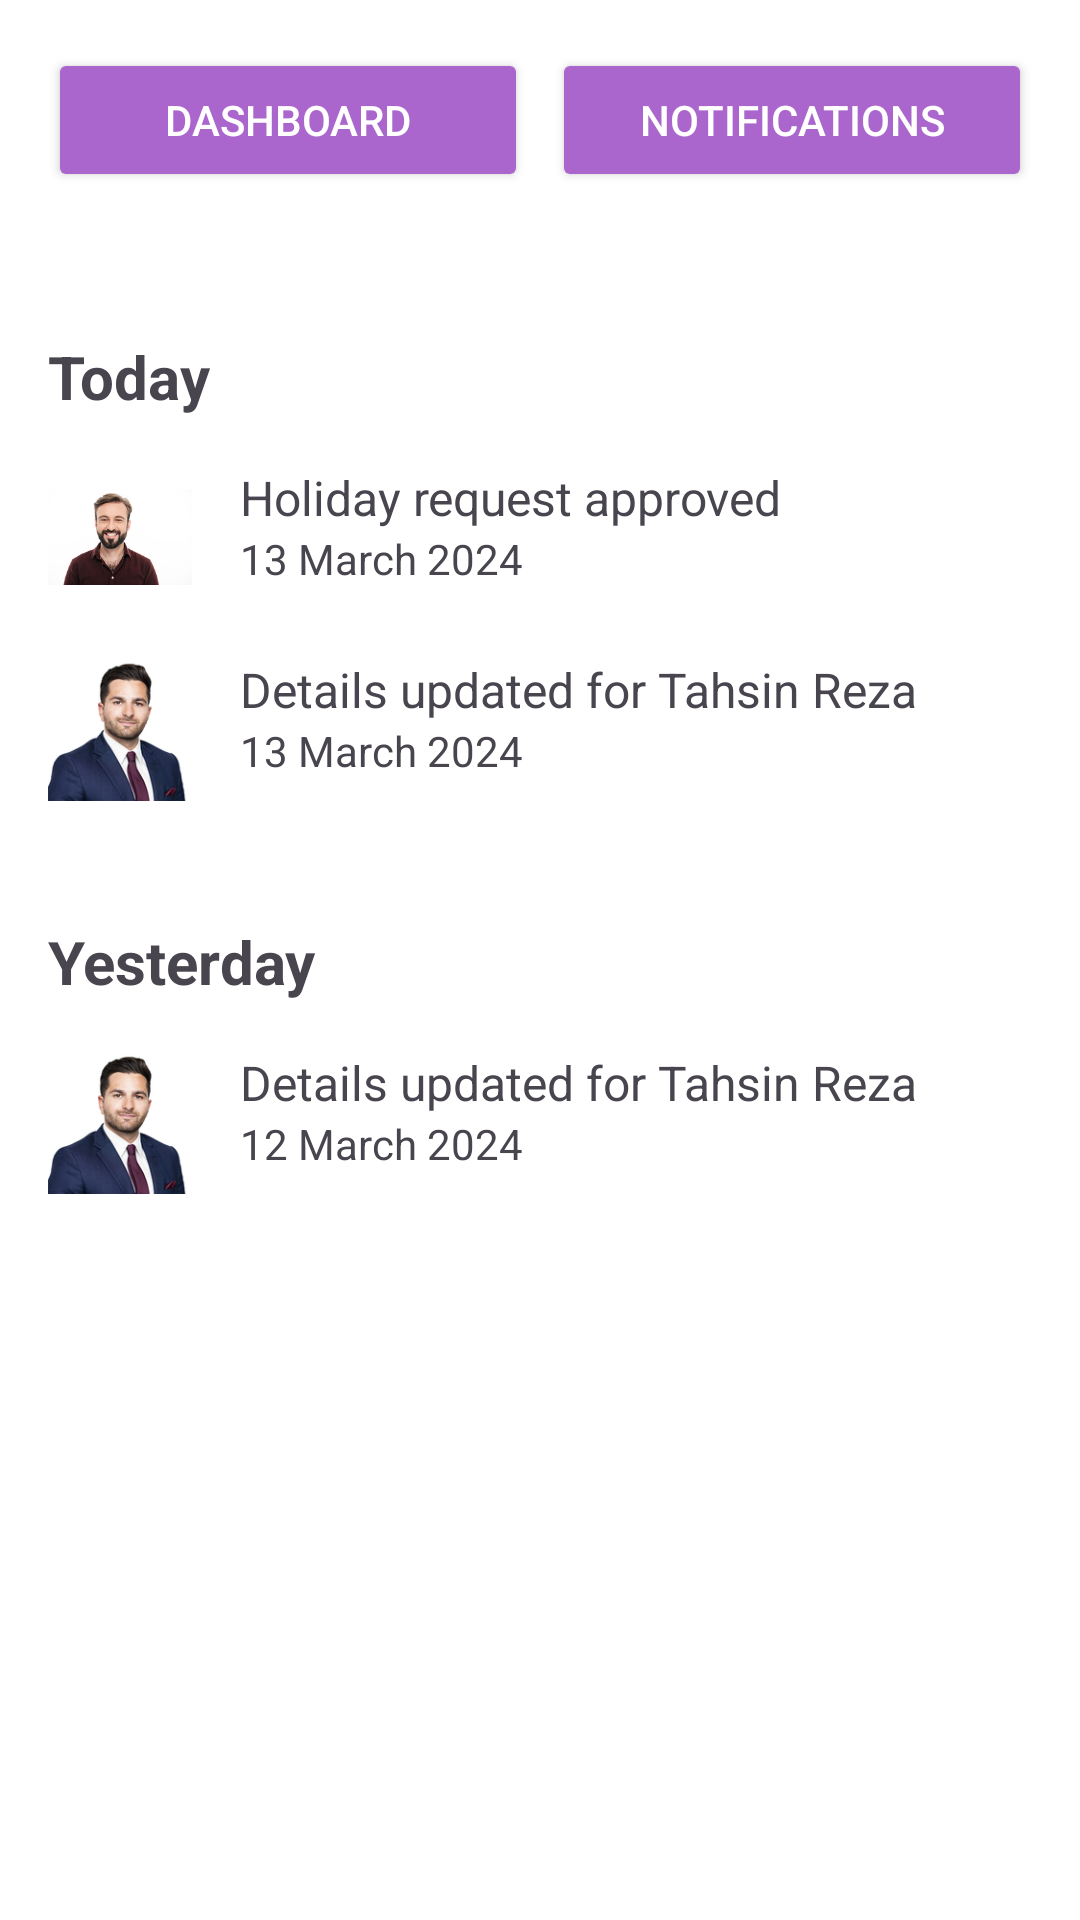

Where icons sit on this 1080×1920 app screen, as (x1, y1, x2, y2):
profile pic: (63, 493, 159, 585)
